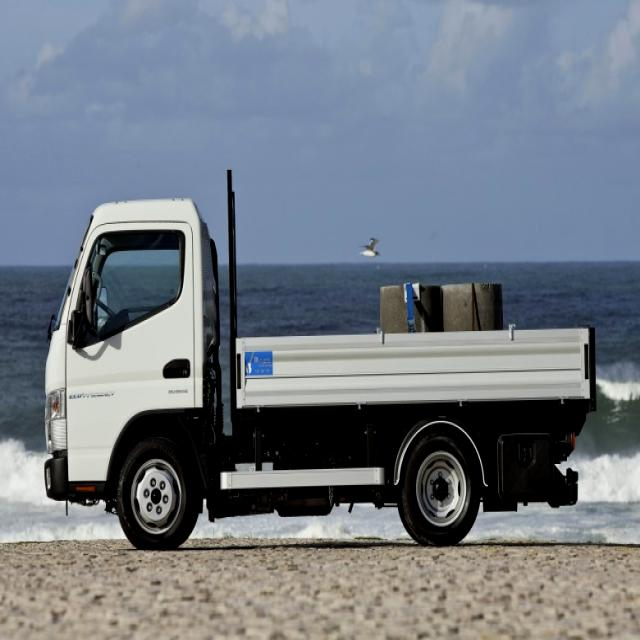truck: (44, 169, 601, 548)
